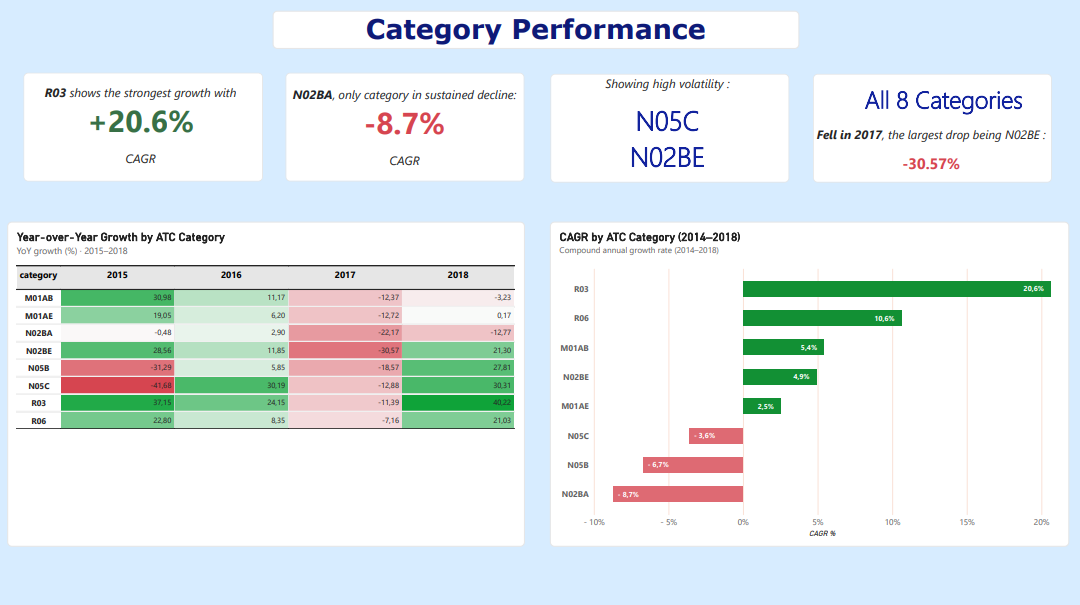

The page's visual inventory and layout, read from the dashboard file:
{"tool":"powerbi","page":{"name":"Category Performance","canvas":[1920,1080],"ordinal":2},"visuals":[{"type":"pivotTable","title":"Year-over-Year Growth by ATC Category","fields":{"Columns":["Query7.year"],"Rows":["Query7.category"],"Values":["Sum(Query7.yoy_growth_pct)"]},"box":[12.7,170.9,960,576.4],"z":0},{"type":"barChart","title":"CAGR by ATC Category (2014–2018)","fields":{"Category":["Query8.category"],"Y":["Sum(Query8.cagr_pct)"]},"box":[1000,170.9,909.1,576.4],"z":1}]}

Visuals, with their boxes in screenshot pixels (x1, y1, x2, y2), scaled from the page's 1920x1080 canvas onto the 1080x605 screenshot:
"Year-over-Year Growth by ATC Category" pivotTable: pyautogui.locateOnScreen(7, 96, 547, 419)
"CAGR by ATC Category (2014–2018)" barChart: pyautogui.locateOnScreen(562, 96, 1074, 419)
